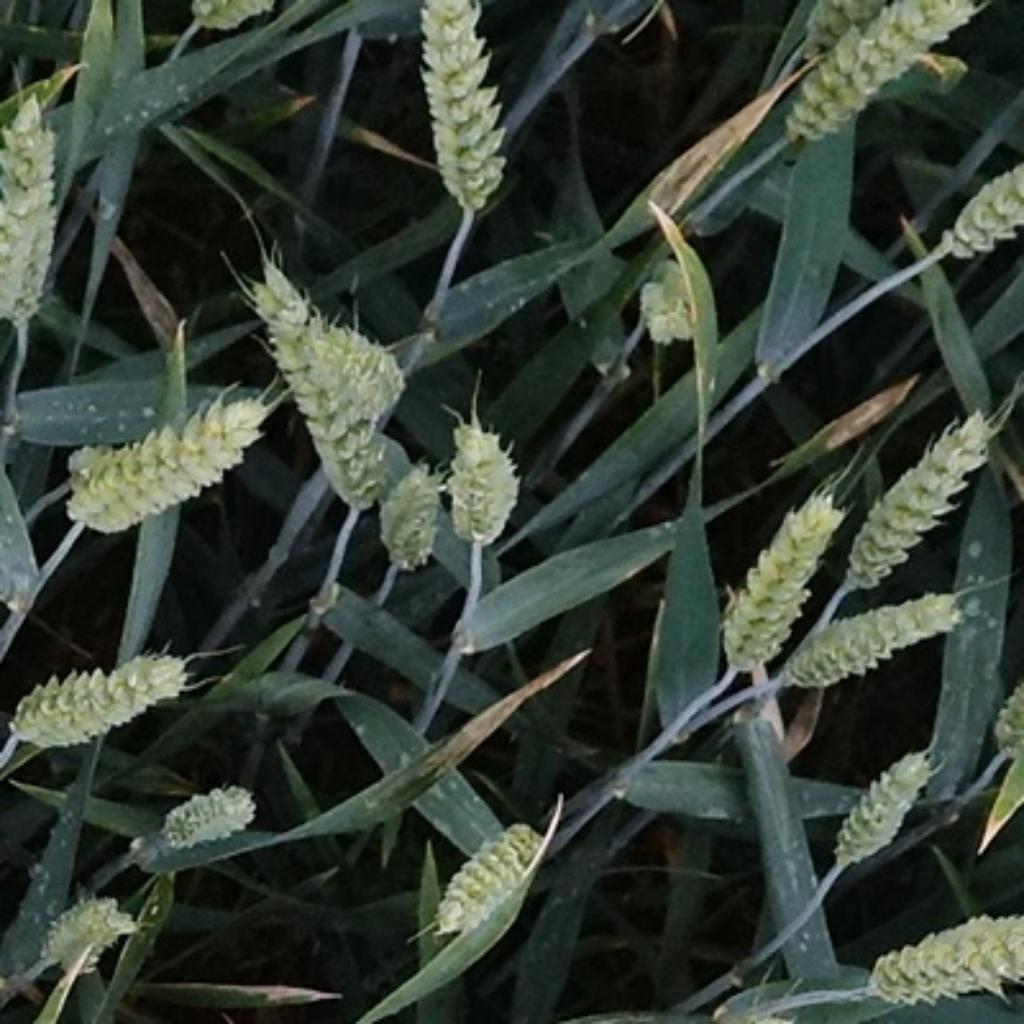0-0: (51, 389, 276, 544), (834, 396, 1003, 581), (255, 263, 377, 510), (770, 2, 972, 148), (399, 2, 527, 215), (701, 481, 844, 670), (767, 578, 962, 703), (1, 644, 195, 757), (845, 904, 1024, 1014), (416, 813, 549, 944), (0, 89, 68, 339), (819, 732, 944, 867), (440, 404, 527, 545), (920, 154, 1024, 270), (362, 453, 454, 582), (319, 312, 415, 424), (31, 889, 138, 978), (145, 774, 263, 853), (627, 263, 707, 356), (802, 3, 877, 60), (176, 0, 275, 43), (995, 670, 1024, 749)
